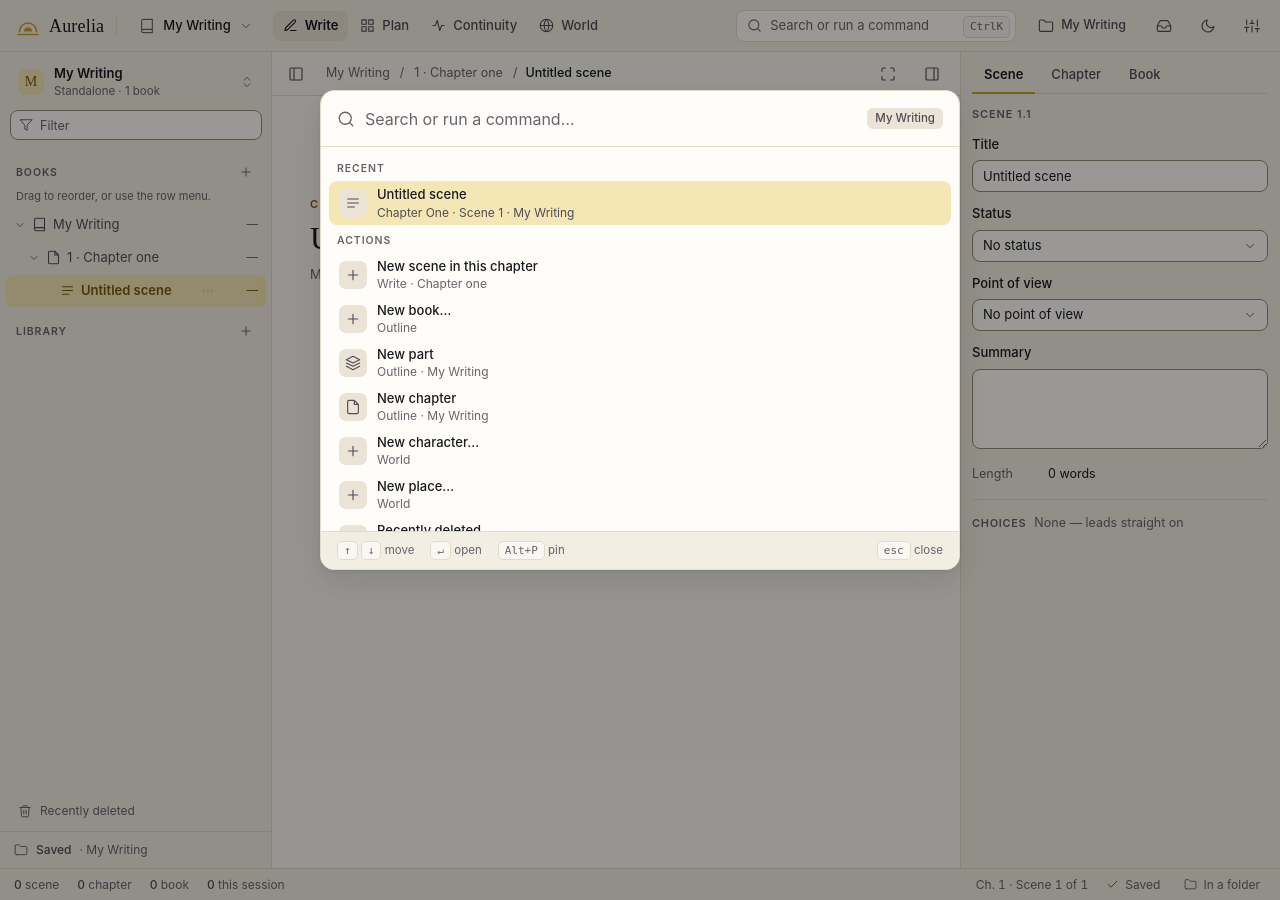
Test: a real workspace on screen › offers a new scene in the command palette, and adds one
Click the option "New scene in this chapter Write · Chapter one": point(438, 275) [339,258,538,291]
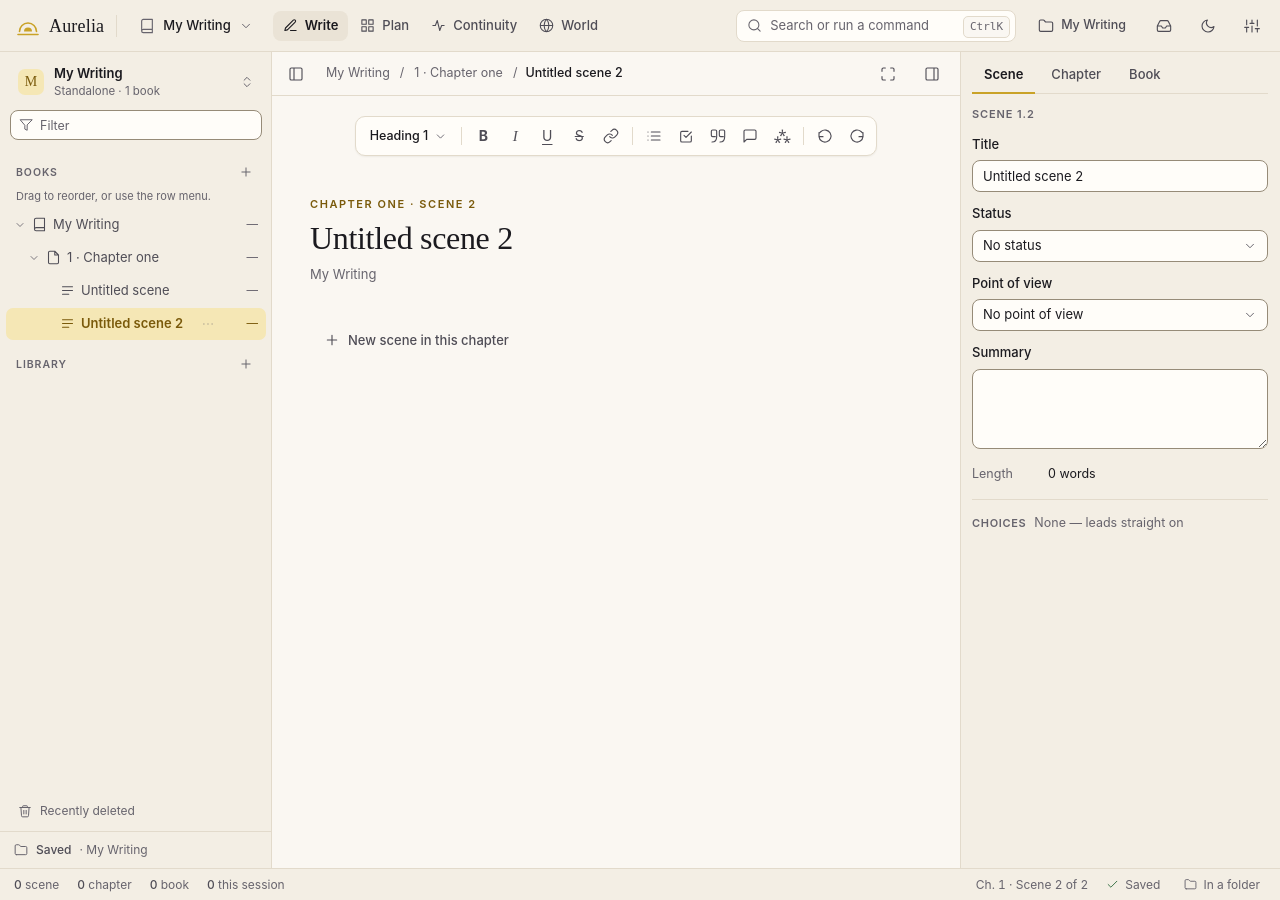
Expected: the text "Untitled scene 2" is shown, [81,314,186,333]
